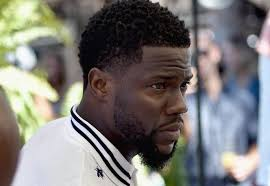black_male: (76, 13, 212, 173)
